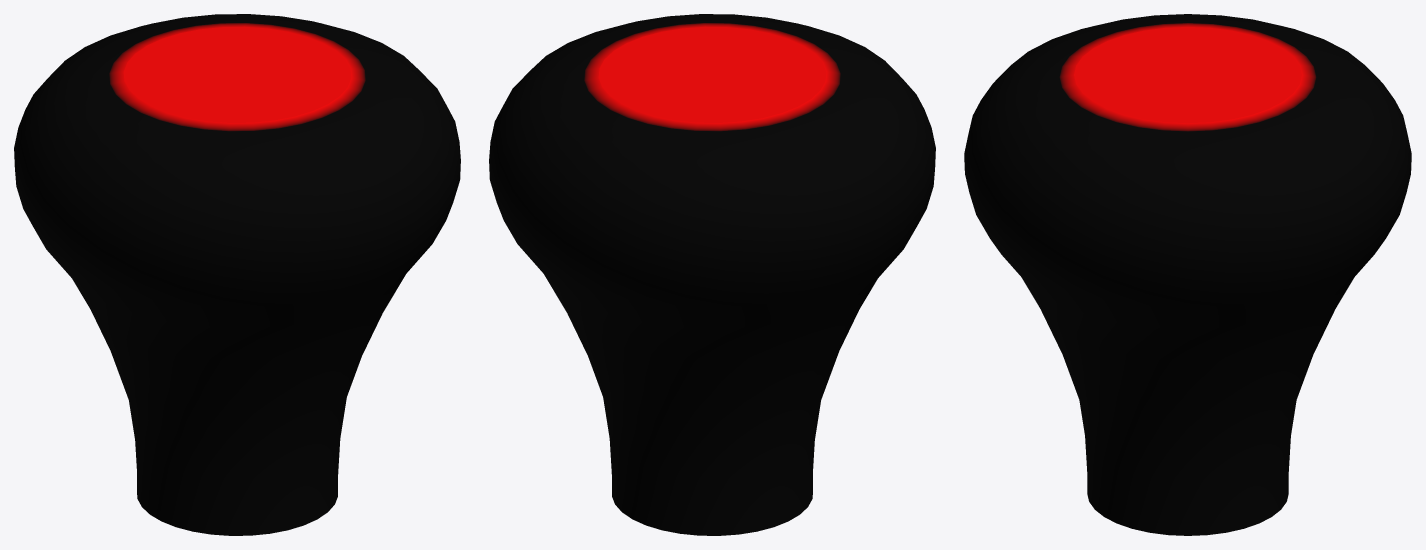
The model's file is Pot02Water.fbx.
3 renders of one model, left to right at view 1: azimuth 30°, elevation 25°; view 2: azimuth 150°, elevation 25°; view 3: azimuth 270°, elevation 25°, orthographic.
Parts seen in each view (by area): view 1: Plane.035; view 2: Plane.035; view 3: Plane.035.
Boxes of the visible parts, x1,y1,x2,y2 form: Plane.035: (14,14,460,535); Plane.035: (489,14,935,535); Plane.035: (964,14,1411,535).
Size of the model in its own units: 1.52 by 1.57 by 1.52.
